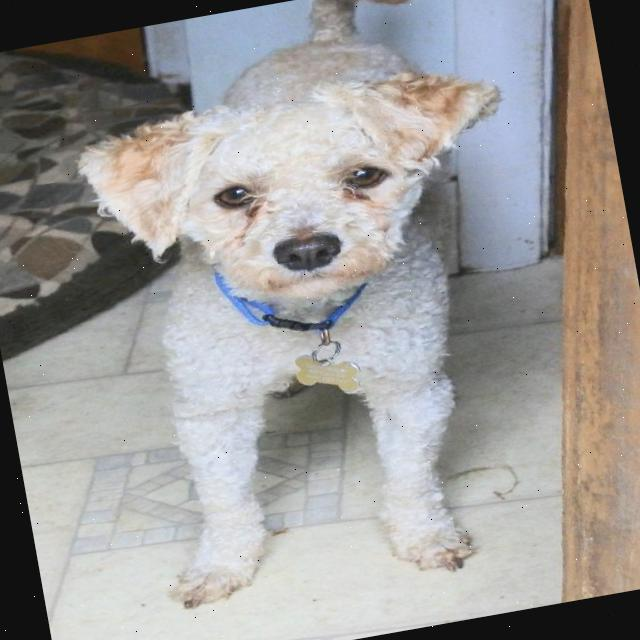Poodle_dog: (43, 43, 546, 366)
